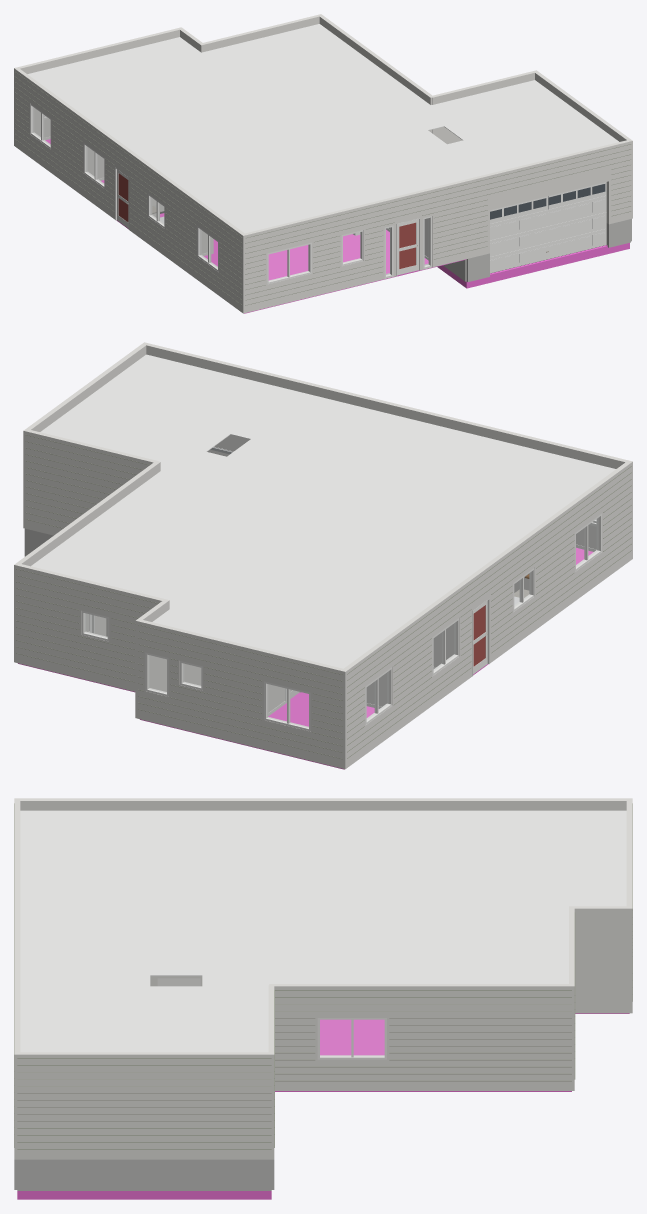
The model's file is house_floor1.glb.
3 views of the same model, one above another, from view 1: azimuth 30°, elevation 25°; view 2: azimuth 150°, elevation 25°; view 3: azimuth 270°, elevation 25° (orthographic). The views are drawn at different scales.
Visible parts, largest first — view 1: ceil_1, col_floor1, trim_siding, door_garage_driveway_s1, door_garage_driveway_s2, door_garage_driveway_s3, door_garage_driveway_s4, win_living_1, room_living, door_foyer_outside, win_living_2, win_bed2_6 (+8 smaller); view 2: ceil_1, col_floor1, trim_siding, win_bed2_7, win_bed2_6, win_bed3_5, win_living_3, door_kitchen_outside, win_hall_9, win_master_bath_11, room_bed2_e, win_kitchen_4; view 3: ceil_1, col_floor1, trim_siding, curb_garage_ext, win_master_10, room_master.
Part boxes in pixels (x1=…): ceil_1: x1=27, y1=24, x2=618, y2=233; col_floor1: x1=14, y1=14, x2=632, y2=313; trim_siding: x1=15, y1=72, x2=630, y2=305; door_garage_driveway_s1: x1=490, y1=228, x2=606, y2=273; door_garage_driveway_s2: x1=490, y1=212, x2=606, y2=256; door_garage_driveway_s3: x1=490, y1=195, x2=606, y2=240; door_garage_driveway_s4: x1=490, y1=182, x2=606, y2=223; win_living_1: x1=267, y1=242, x2=311, y2=284; room_living: x1=204, y1=245, x2=350, y2=280; door_foyer_outside: x1=397, y1=219, x2=418, y2=275; win_living_2: x1=341, y1=230, x2=363, y2=265; win_bed2_6: x1=30, y1=103, x2=51, y2=149; ceil_1: x1=31, y1=354, x2=615, y2=668; col_floor1: x1=14, y1=342, x2=632, y2=769; trim_siding: x1=16, y1=435, x2=631, y2=759; win_bed2_7: x1=264, y1=681, x2=310, y2=731; win_bed2_6: x1=365, y1=667, x2=392, y2=724; win_bed3_5: x1=432, y1=618, x2=459, y2=675; win_living_3: x1=575, y1=513, x2=601, y2=571; door_kitchen_outside: x1=473, y1=600, x2=487, y2=673; win_hall_9: x1=145, y1=652, x2=168, y2=696; win_master_bath_11: x1=81, y1=610, x2=109, y2=641; room_bed2_e: x1=268, y1=692, x2=308, y2=722; win_kitchen_4: x1=513, y1=568, x2=534, y2=611; ceil_1: x1=20, y1=810, x2=626, y2=1052; col_floor1: x1=14, y1=798, x2=632, y2=1199; trim_siding: x1=14, y1=803, x2=632, y2=1149; curb_garage_ext: x1=17, y1=1159, x2=271, y2=1190; win_master_10: x1=317, y1=1018, x2=386, y2=1059; room_master: x1=320, y1=1019, x2=384, y2=1055.
Bounding box in the file's own units: 16.03 × 4.25 × 16.33.
46 materials, 6 textured.
